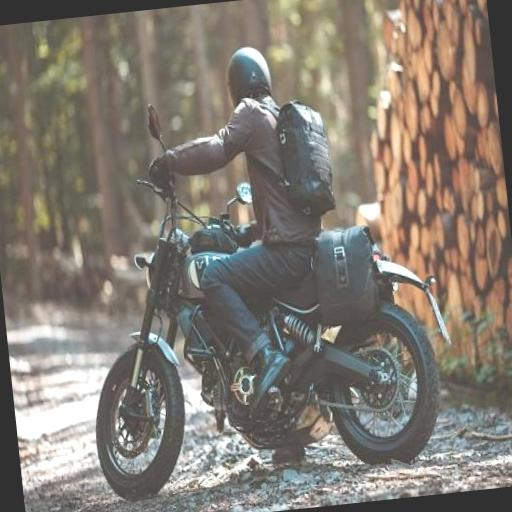helmet: (42, 0, 455, 479)
